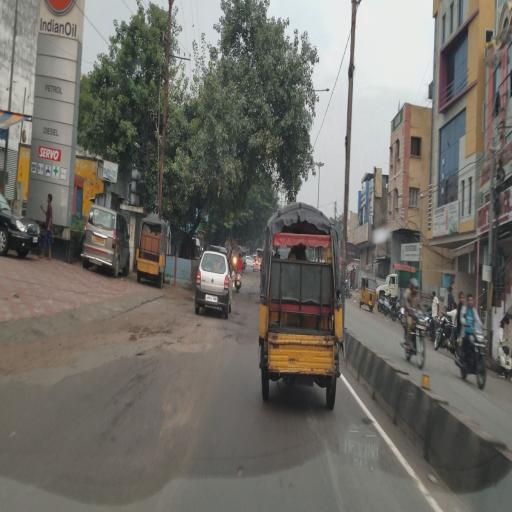street_light_0: (310, 81, 336, 103)
